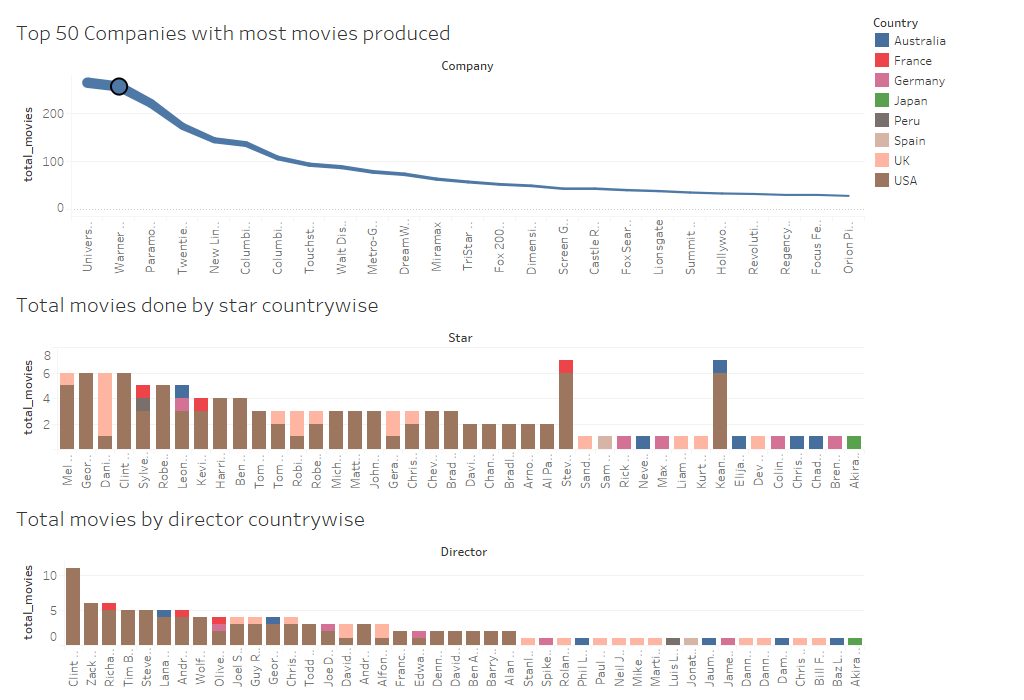

Layout of this report page (visuals, bound fields, positions):
{"tool":"tableau","page":{"name":"Dashboard 3","canvas":[1024,700],"ordinal":2},"visuals":[{"type":"worksheet","title":"Top company","mark":"Line","rows":["Calculation_639511184486076417"],"cols":["company"],"box":[8,8,860,272.2]},{"type":"legend","title":"star","param":"[federated.17efyw80rm8n911ffvgez0q2bcdu].[none:country:nk]","box":[868,8,148,421]},{"type":"worksheet","title":"star","mark":"Automatic","rows":["Calculation_639511184486076417"],"cols":["star"],"box":[8,280.2,860,213.7]},{"type":"worksheet","title":"Director","mark":"Automatic","rows":["Calculation_639511184486076417"],"cols":["director"],"box":[8,493.9,860,198.1]}]}

Visuals, with their boxes in screenshot pixels (x1, y1, x2, y2), scaled from the page's 1024x700 canvas onto the 1024x700 screenshot:
"Top company" worksheet (Line marks): region(8, 8, 868, 280)
"star" legend: region(868, 8, 1016, 429)
"star" worksheet: region(8, 280, 868, 494)
"Director" worksheet: region(8, 494, 868, 692)
